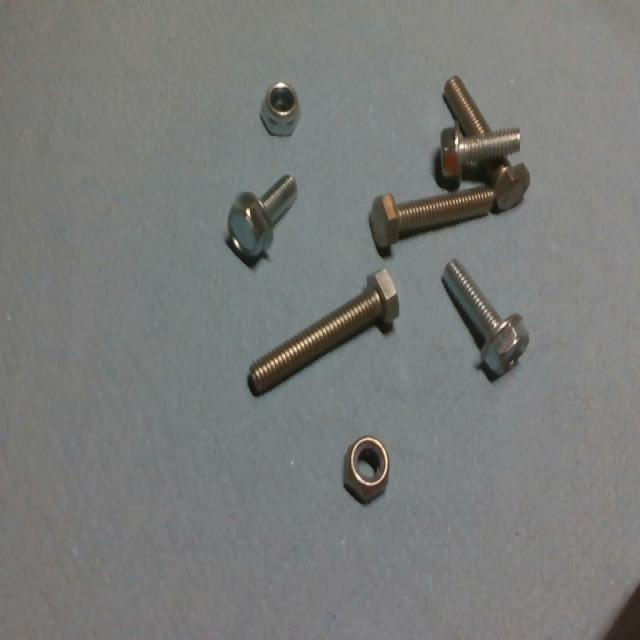Bolt: (241, 262, 407, 417), (438, 72, 542, 218), (356, 182, 499, 266), (439, 259, 532, 383), (221, 165, 304, 265), (433, 118, 525, 196)
Nut: (336, 434, 399, 504), (254, 77, 310, 144)
